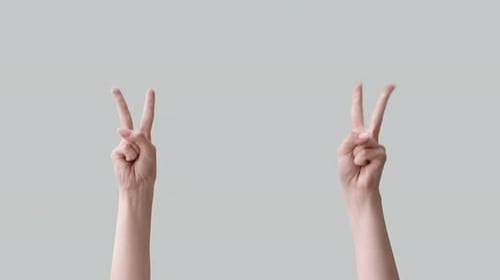peace_sign: (322, 71, 406, 193), (101, 81, 170, 189)
